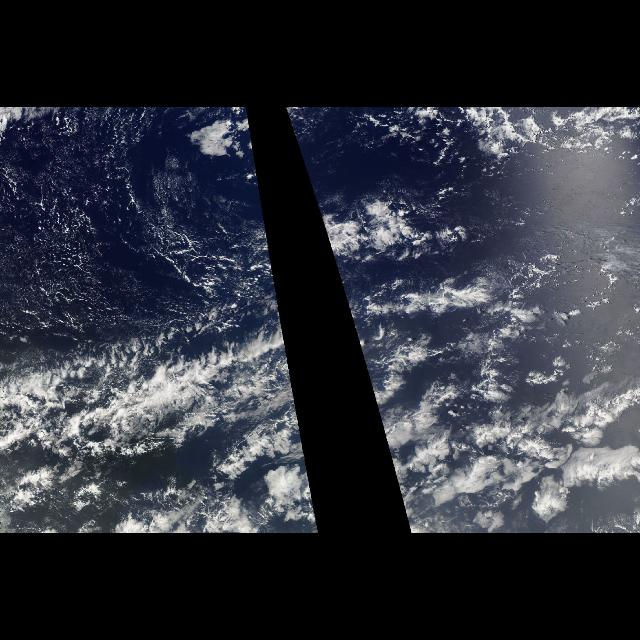Fish: (90, 314, 304, 448)
Gravel: (5, 112, 218, 334)
Sugar: (3, 112, 203, 358)
